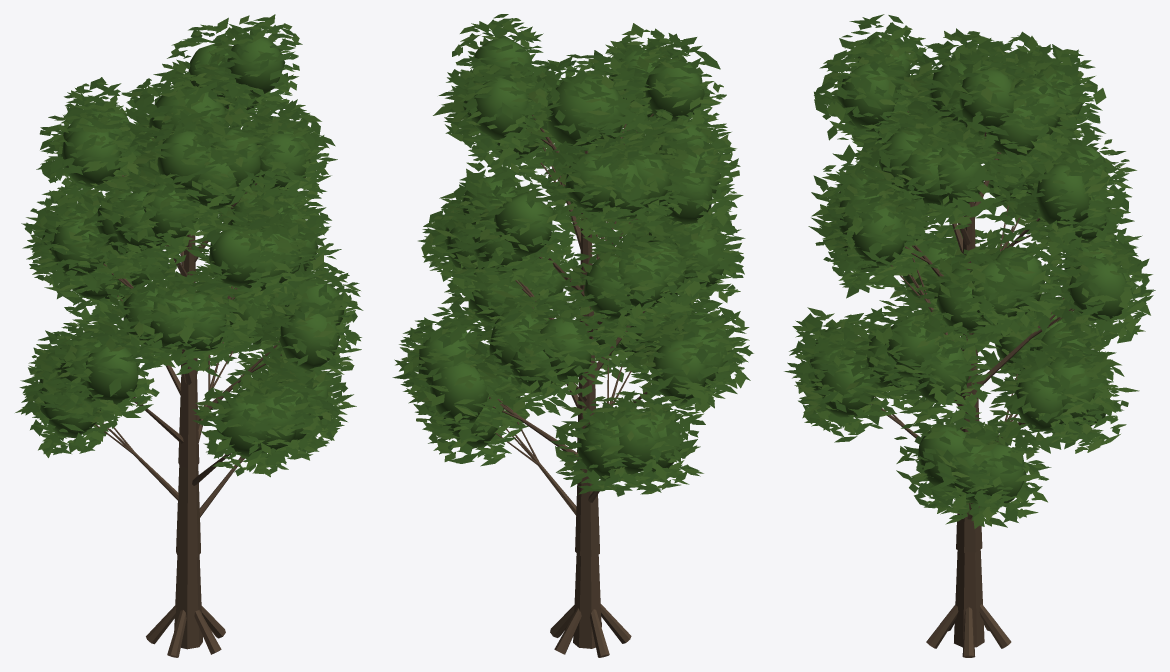
The model's file is alder.glb.
3 renders of one model, left to right at view 1: azimuth 30°, elevation 25°; view 2: azimuth 150°, elevation 25°; view 3: azimuth 270°, elevation 25°, orthographic. The views are drawn at different scales.
Visible parts, largest first — view 1: alder; view 2: alder; view 3: alder.
Boxes of the visible parts, box(x1,y1,x2,y2) form: alder: box(15, 14, 363, 657); alder: box(392, 14, 753, 657); alder: box(784, 14, 1155, 657).
Size of the model in its own units: 3.73 by 7.03 by 3.76.
